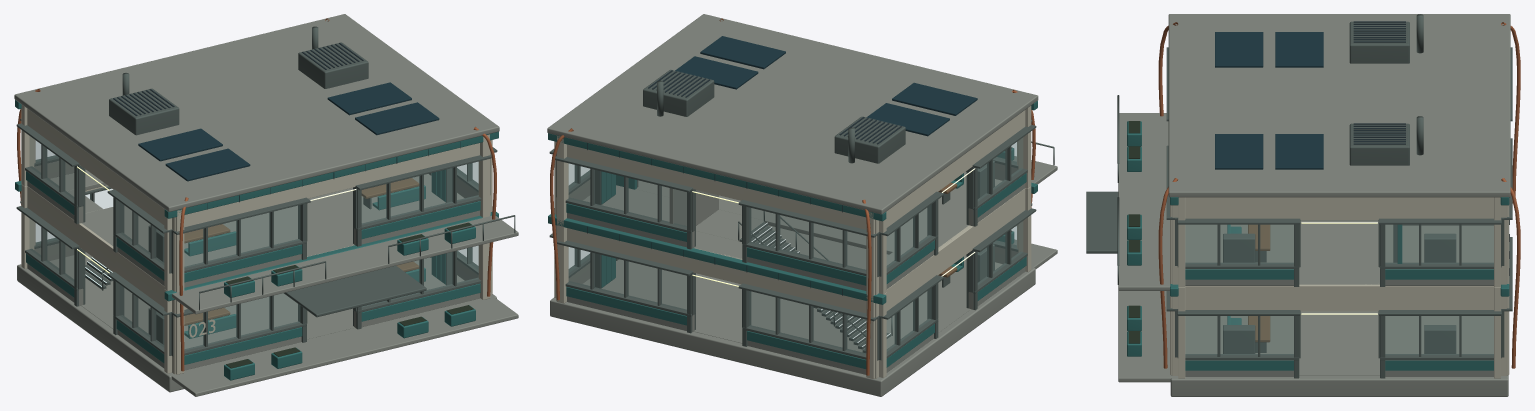
File: habitation.glb
3 renders of one model, left to right at view 1: azimuth 30°, elevation 25°; view 2: azimuth 150°, elevation 25°; view 3: azimuth 270°, elevation 25°, orthographic. The views are drawn at different scales.
Visible parts, largest first — view 1: habitation; view 2: habitation; view 3: habitation.
Part boxes in pixels (x1=…): habitation: x1=14, y1=14, x2=518, y2=396; habitation: x1=547, y1=14, x2=1057, y2=396; habitation: x1=1086, y1=14, x2=1520, y2=396.
Size of the model in its own units: 21.2 by 13.3 by 21.6.
